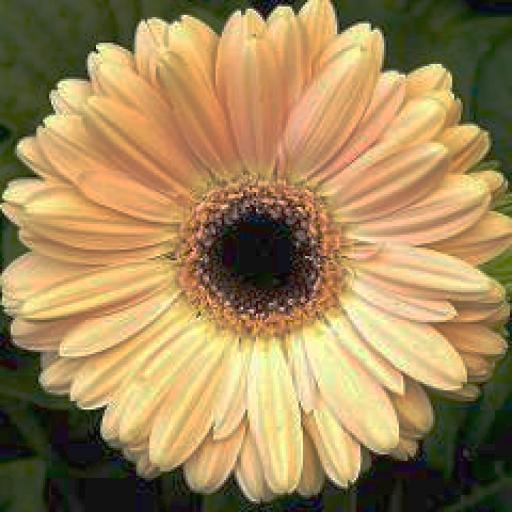daisy: (4, 10, 512, 506)
